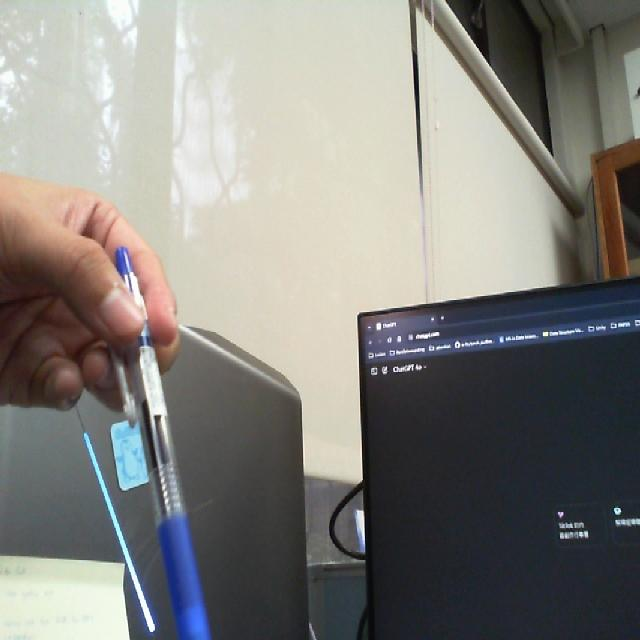Pen: (103, 234, 220, 640)
